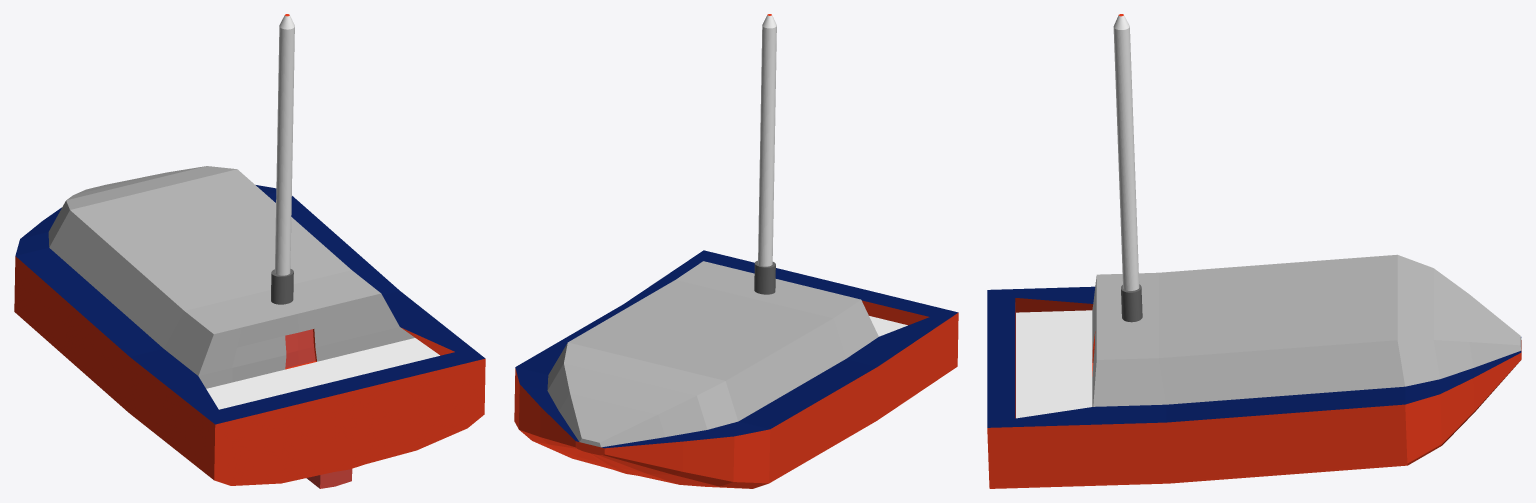
Rendered from barquinho.glb.
3 views of the same model, side by side, from view 1: azimuth 30°, elevation 25°; view 2: azimuth 150°, elevation 25°; view 3: azimuth 270°, elevation 25° (orthographic). The views are drawn at different scales.
Parts seen in each view (by area): view 1: Cube.003; view 2: Cube.003; view 3: Cube.003.
Part boxes in pixels (x1,y1,x2,y2): Cube.003: [14, 14, 485, 488]; Cube.003: [514, 14, 958, 488]; Cube.003: [987, 14, 1521, 488].
Bounding box in the file's own units: 0.3997 × 0.6154 × 0.6543.
